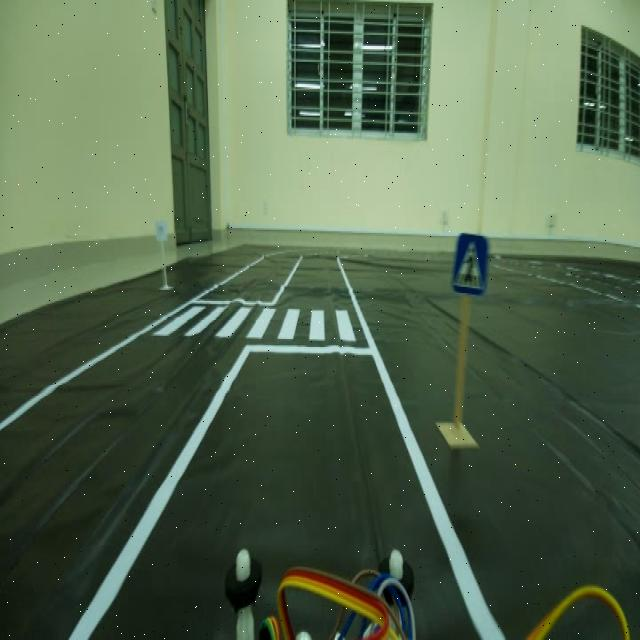crosswalk: (448, 226, 496, 313)
